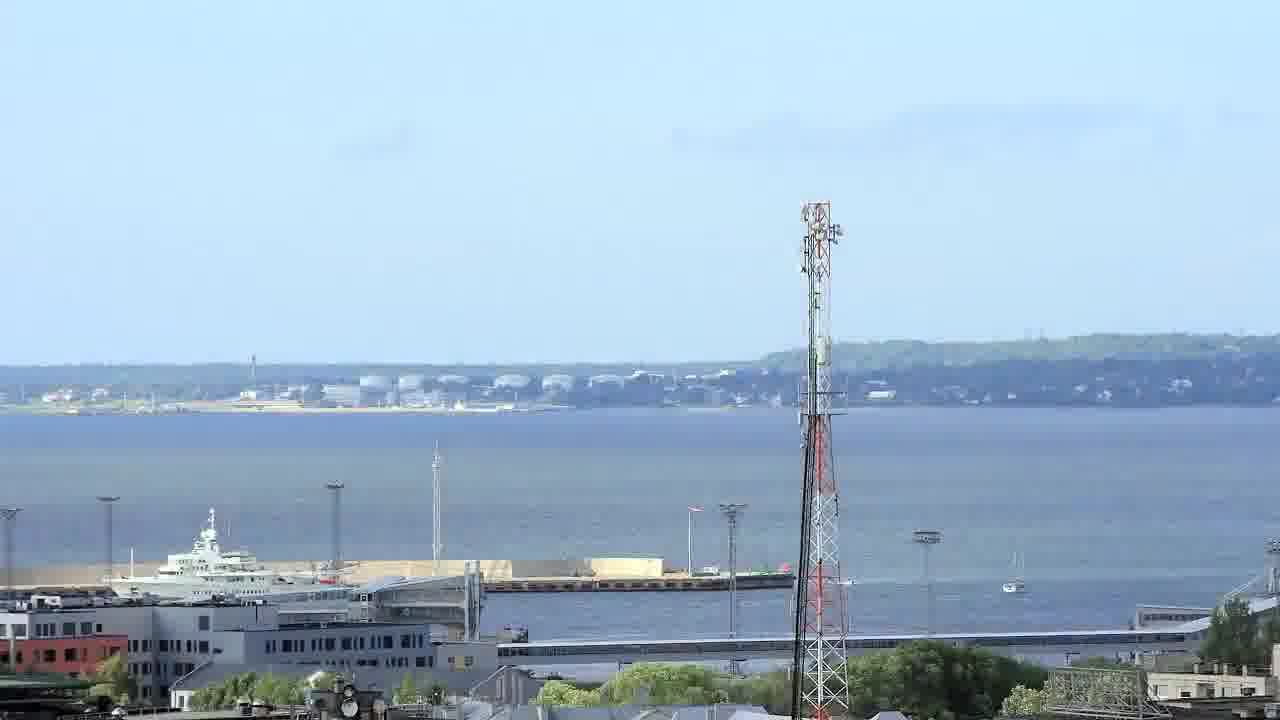type-0: (989, 562, 1036, 610)
type-3: (88, 507, 346, 605)
